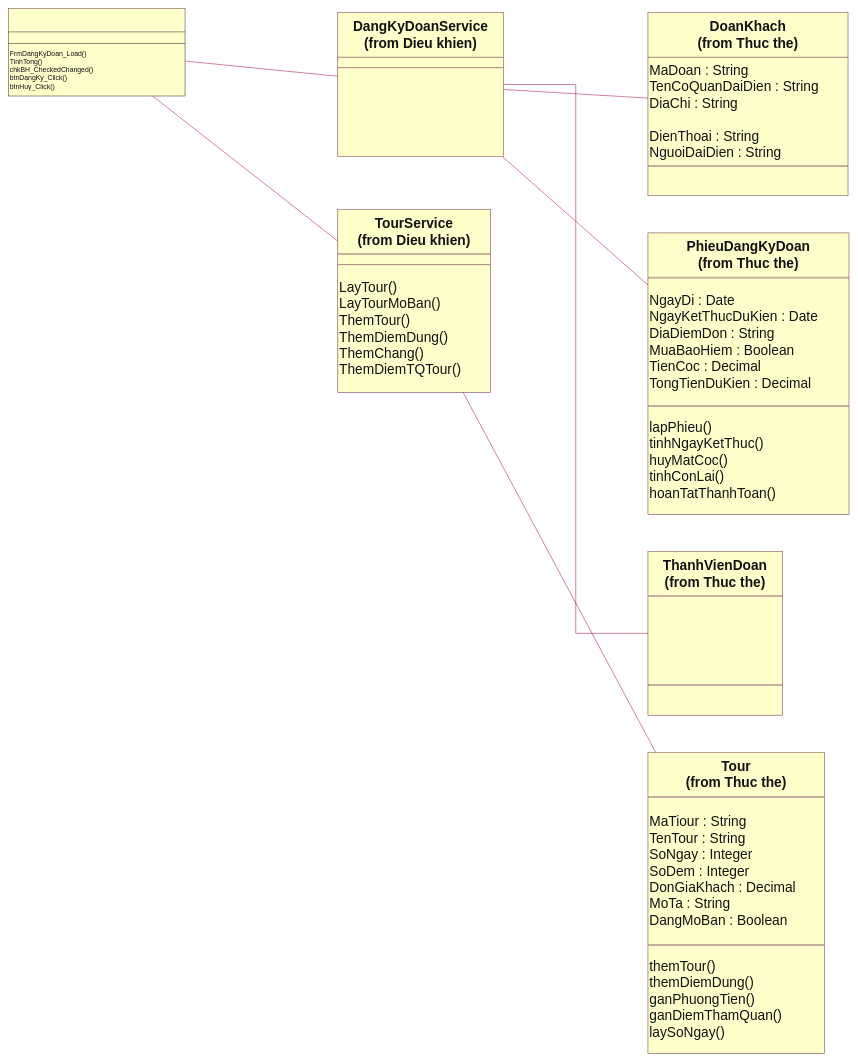
Some shapes in this 858 by 1062 pixel diagram are drawn without their labels. The shapes that lost their labels are listed below. From the top down, each one's centre as x and y in pixels, then its label:
At point 96,20: "«boundary» FrmDangKyDoan".
At point 420,112: "LayDanhSach() LayThanhVien() DangKyQ HuyDangKy()".
At point 748,181: "luuHoacCapNhat()".
At point 715,640: "STT : Integer HoTen : String NgaySinh : Date SoGiayTo : String".
At point 715,700: "themThanhVien()".
